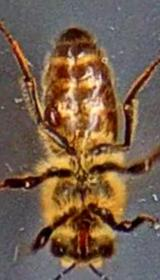varroa_mite: (34, 96, 71, 138)
